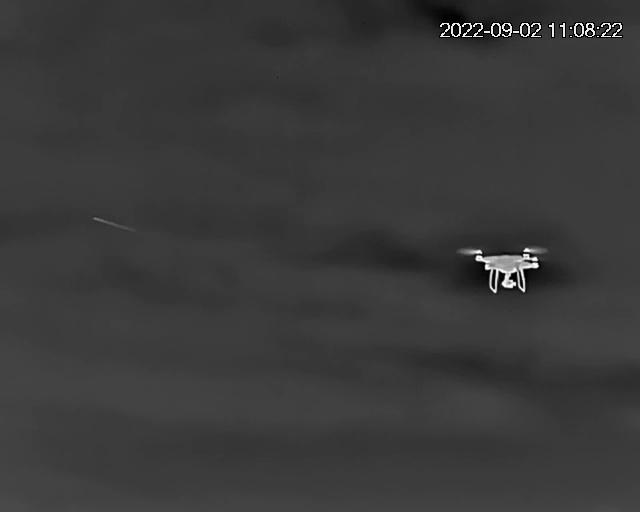DJI-Phantom: (462, 244, 547, 294)
